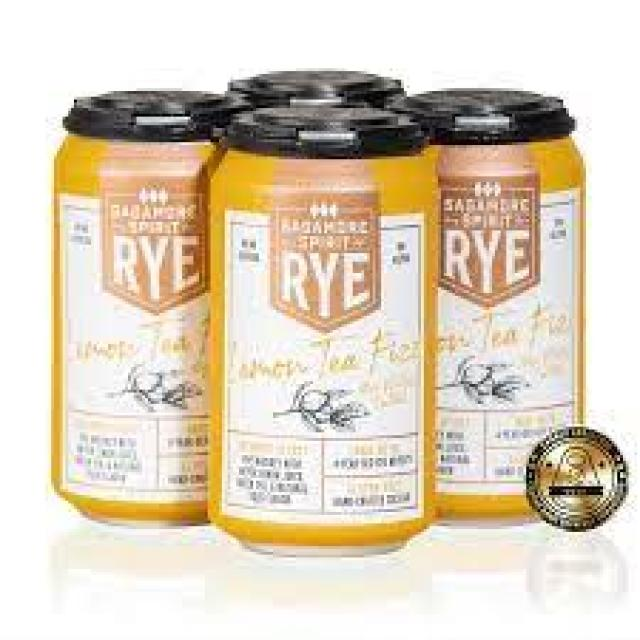Cans: (199, 105, 447, 558), (42, 82, 242, 538), (421, 82, 597, 532)
